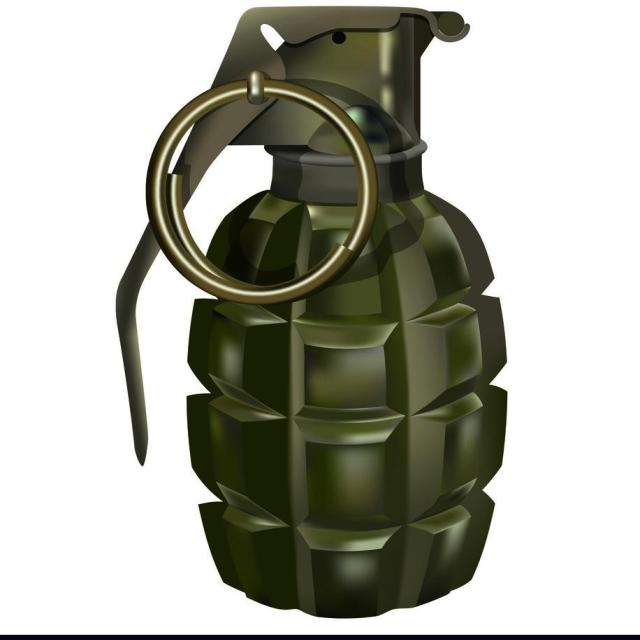grenade: (117, 7, 510, 621)
